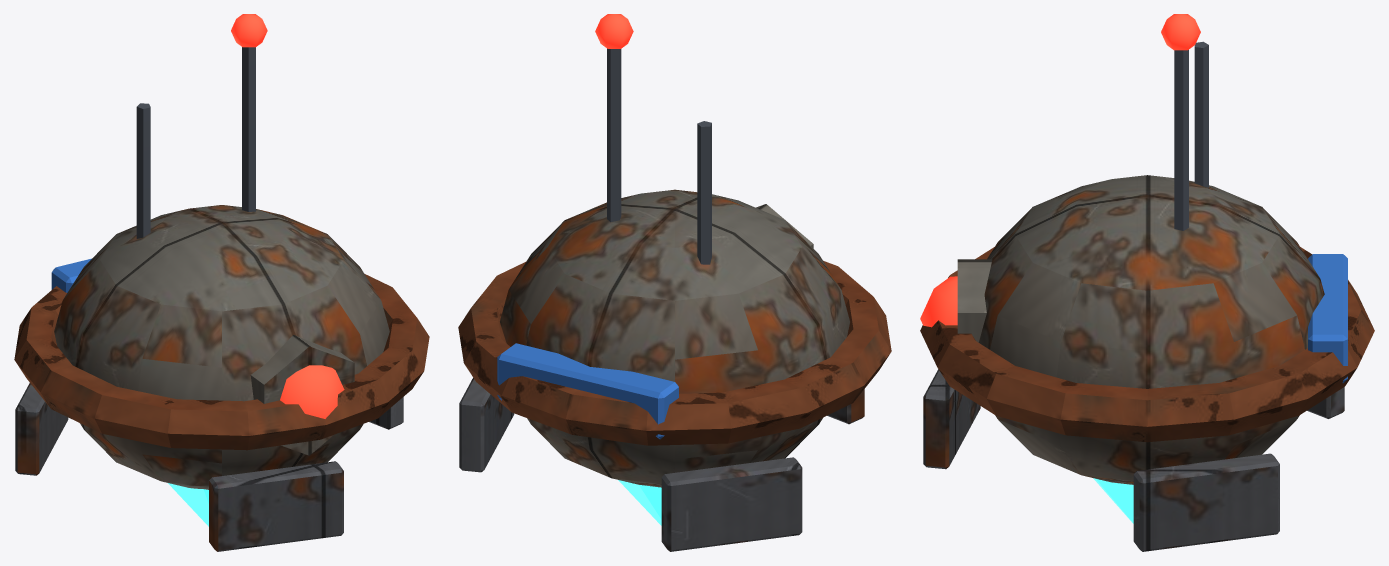
Rendered from zespion.glb.
The picture shows the model from 3 angles, left to right: view 1: azimuth 30°, elevation 25°; view 2: azimuth 150°, elevation 25°; view 3: azimuth 270°, elevation 25°; orthographic projection. The views are drawn at different scales.
Visible parts, largest first — view 1: zespion; view 2: zespion; view 3: zespion.
Boxes of the visible parts, box(x1,y1,x2,y2) form: zespion: box(14, 14, 429, 551); zespion: box(458, 14, 891, 551); zespion: box(920, 14, 1374, 551).
Bounding box in the file's own units: 0.68 × 0.905 × 0.68.
7 materials, 3 textured.
